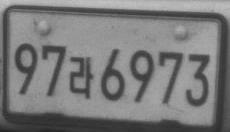3: (185, 53, 211, 107)
6: (99, 47, 125, 102)
7: (158, 50, 184, 105), (41, 44, 66, 97)
9: (129, 49, 155, 103), (13, 42, 38, 94)
라: (69, 55, 93, 100)
